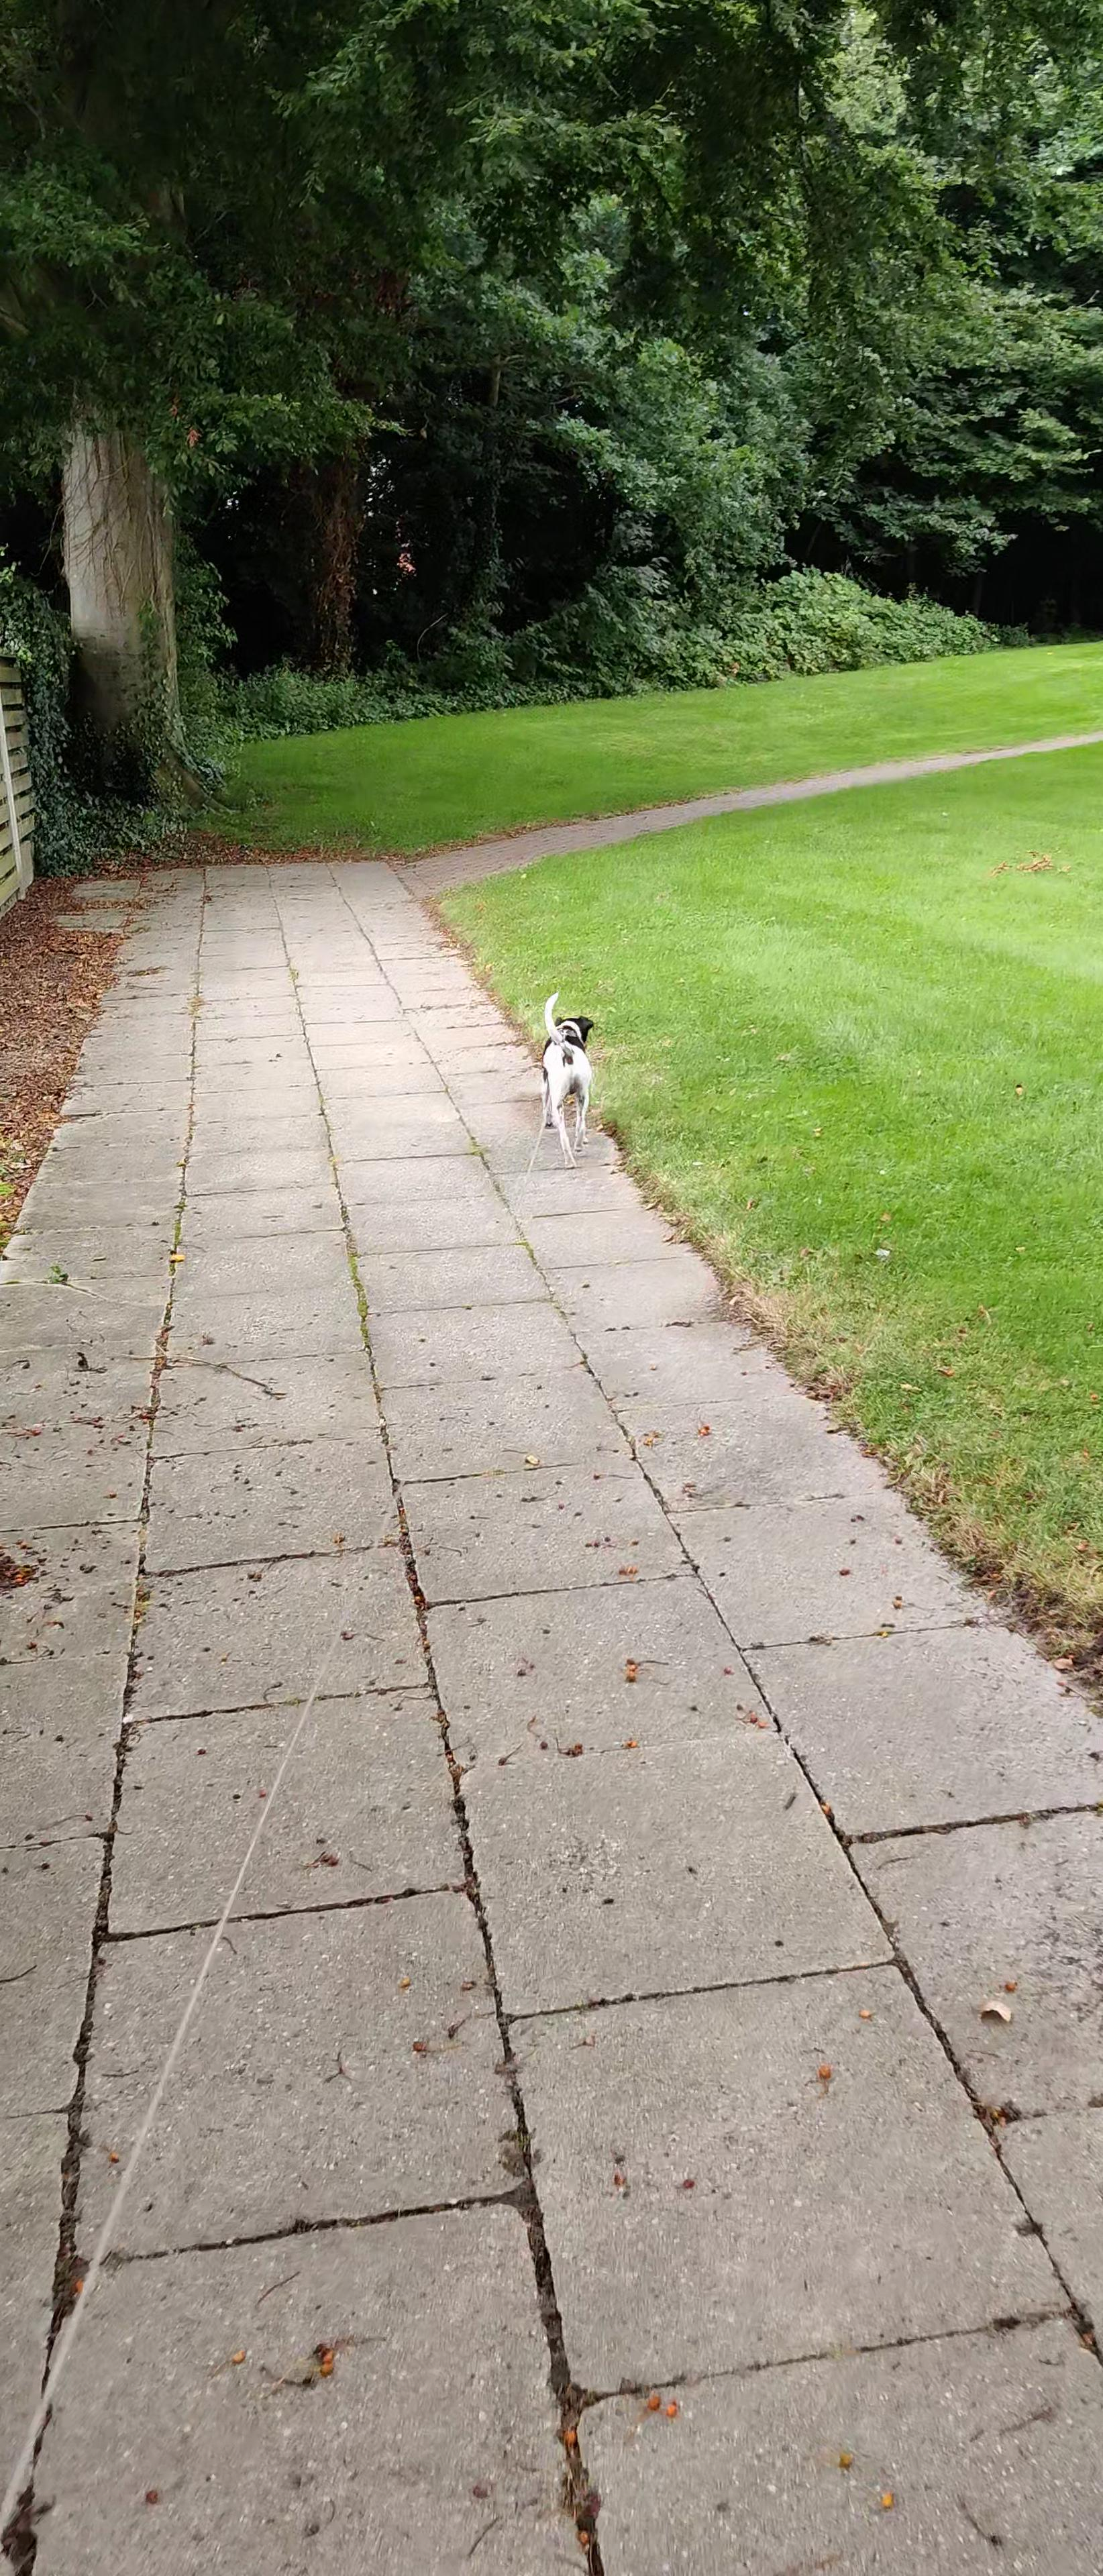Dog: (524, 986, 611, 1176)
